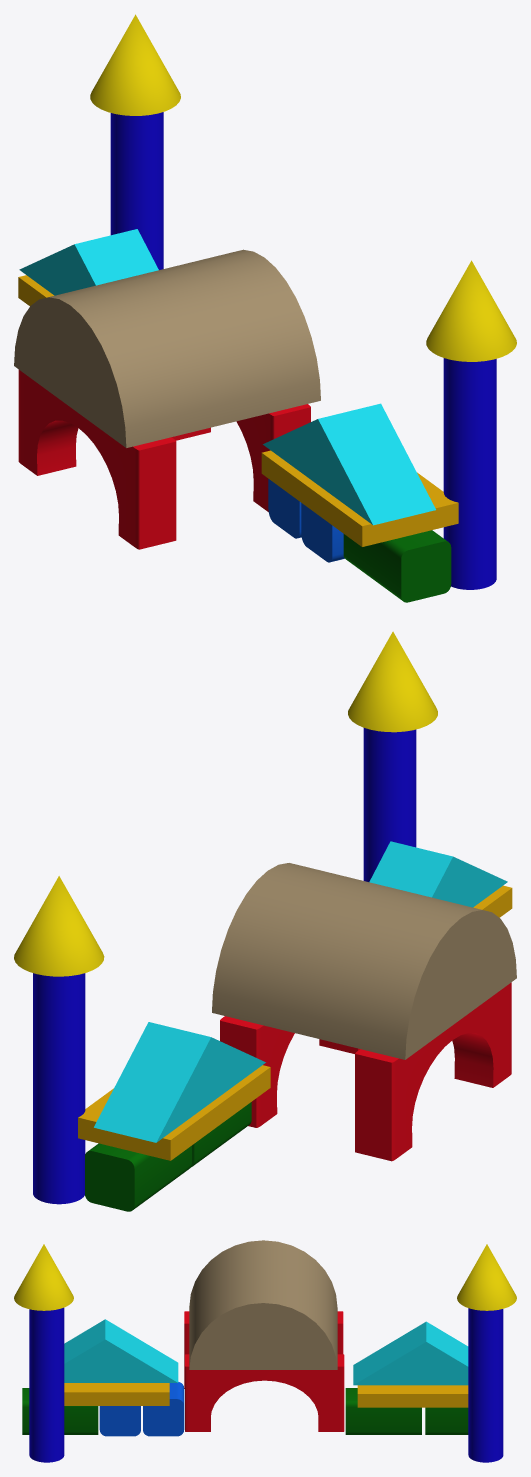
File: Castillo maderas.fbx
The picture shows the model from 3 angles, top to bottom: view 1: azimuth 30°, elevation 25°; view 2: azimuth 150°, elevation 25°; view 3: azimuth 270°, elevation 25°; orthographic projection. The views are drawn at different scales.
Visible parts, largest first — view 1: madera rectangular v.001; view 2: madera rectangular v.001; view 3: madera rectangular v.001.
Part boxes in pixels (box(x1,y1,x2,y2)): madera rectangular v.001: box(14, 14, 516, 602); madera rectangular v.001: box(14, 631, 516, 1211); madera rectangular v.001: box(14, 1240, 516, 1462).
Bounding box in the file's own units: 2746 × 3063 × 6613.
